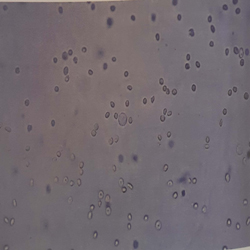RBC: (153, 218, 166, 232), (88, 203, 98, 221), (108, 134, 121, 147), (90, 123, 100, 138), (86, 65, 97, 78), (119, 111, 127, 128), (169, 189, 179, 202), (152, 32, 162, 44), (103, 206, 116, 215), (103, 194, 117, 202), (161, 84, 171, 95), (206, 38, 216, 49), (47, 117, 58, 127), (95, 188, 104, 200), (123, 222, 135, 231), (110, 238, 122, 247), (190, 82, 198, 95), (79, 44, 89, 54), (69, 152, 78, 163), (53, 84, 62, 95), (22, 97, 31, 108), (166, 177, 174, 189), (223, 172, 231, 184), (63, 49, 70, 62), (126, 83, 136, 92), (148, 93, 157, 103), (126, 212, 135, 222), (76, 167, 86, 176), (103, 60, 110, 72), (222, 105, 229, 117), (128, 181, 136, 191), (159, 114, 169, 122), (166, 130, 174, 140), (27, 124, 35, 134), (92, 227, 98, 240), (202, 203, 208, 216), (162, 162, 169, 173), (76, 177, 83, 188), (109, 100, 117, 109), (124, 99, 132, 108), (143, 212, 151, 221), (54, 149, 62, 158), (194, 60, 202, 69), (232, 82, 238, 94), (61, 67, 71, 74), (9, 216, 16, 226), (192, 174, 199, 184), (186, 50, 193, 60), (156, 133, 162, 144), (78, 161, 86, 169), (224, 218, 232, 226), (104, 111, 111, 120), (69, 178, 76, 187), (185, 62, 192, 71), (119, 176, 125, 186), (111, 53, 117, 63), (172, 86, 178, 96), (122, 70, 129, 78), (63, 75, 70, 83), (122, 186, 129, 194), (161, 106, 168, 114), (142, 96, 147, 107), (236, 221, 241, 232), (4, 215, 10, 224), (193, 202, 199, 211), (128, 115, 133, 125), (227, 87, 232, 97), (159, 76, 165, 84), (13, 197, 18, 206), (64, 174, 68, 185), (205, 134, 210, 142), (114, 111, 118, 119)
